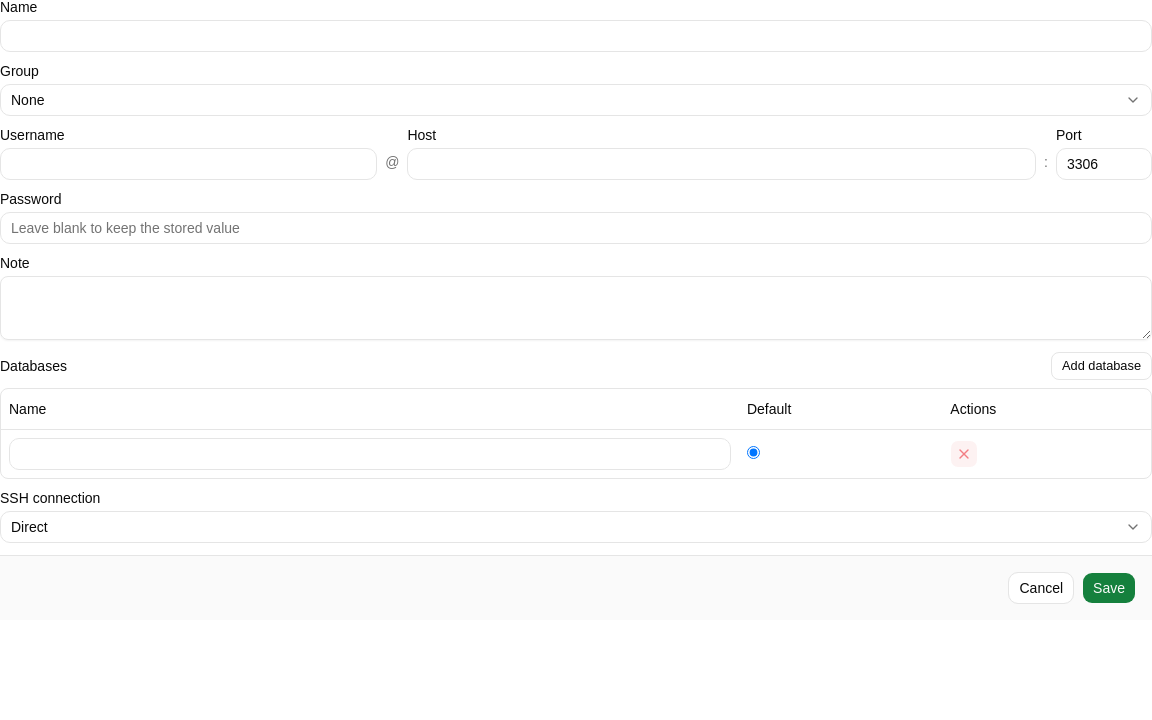
Test: DBForm › appends the group name to SSH profile options when grouped
Click the dropdown named "SSH connection" at coordinates (29, 526), box [0,510,1151,542]
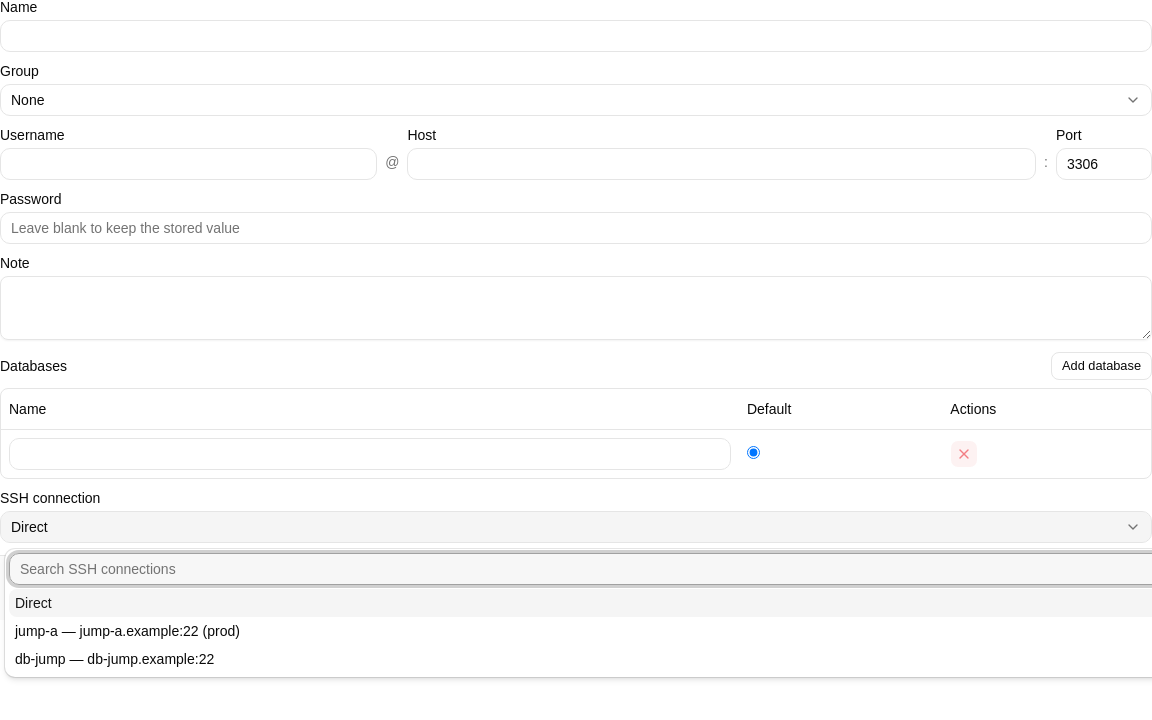
Expected: the option "jump-a — jump-a.example:22 (prod)" is shown, [15,623,240,639]
Expected: the option "db-jump — db-jump.example:22" is shown, [15,651,214,667]
